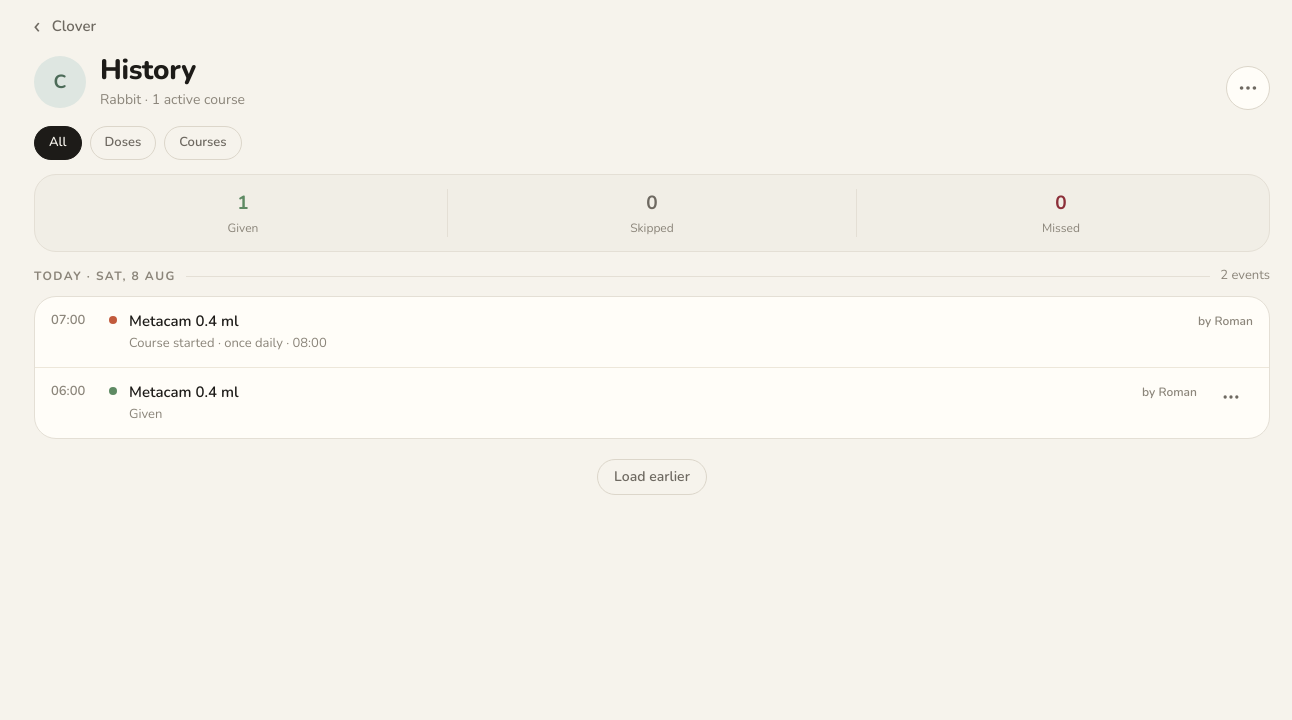
Scenario: HistoryView › exports the visible range as plain text and CSV, matching exportAsText/exportAsCsv over the same entries
Expected: the heading "History" is shown, [100,51,196,89]
Click the button named "Export history". click: (1248, 88)
box: [1226,66,1270,110]
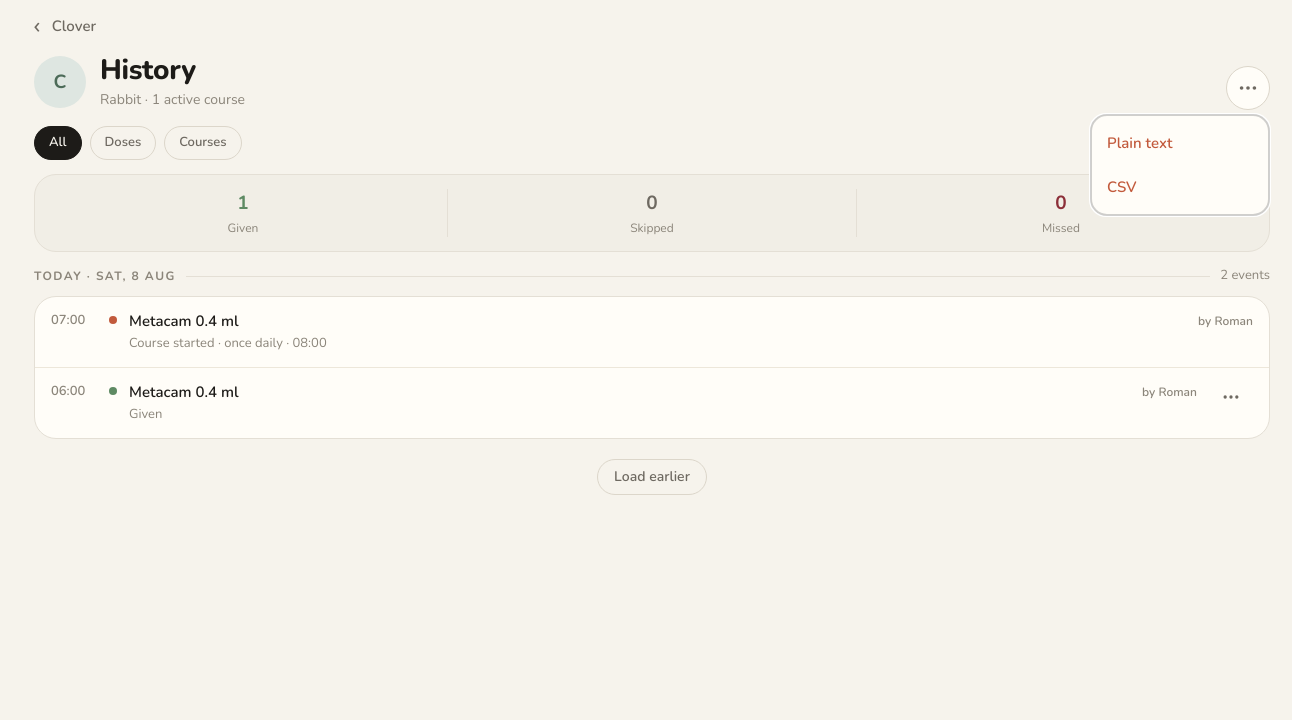
Result: the menu item "Plain text" is shown
Result: the menu item "CSV" is shown at [1107,177,1137,197]
Click the menu item "Plain text". click: (1140, 143)
box: [1107,133,1172,153]
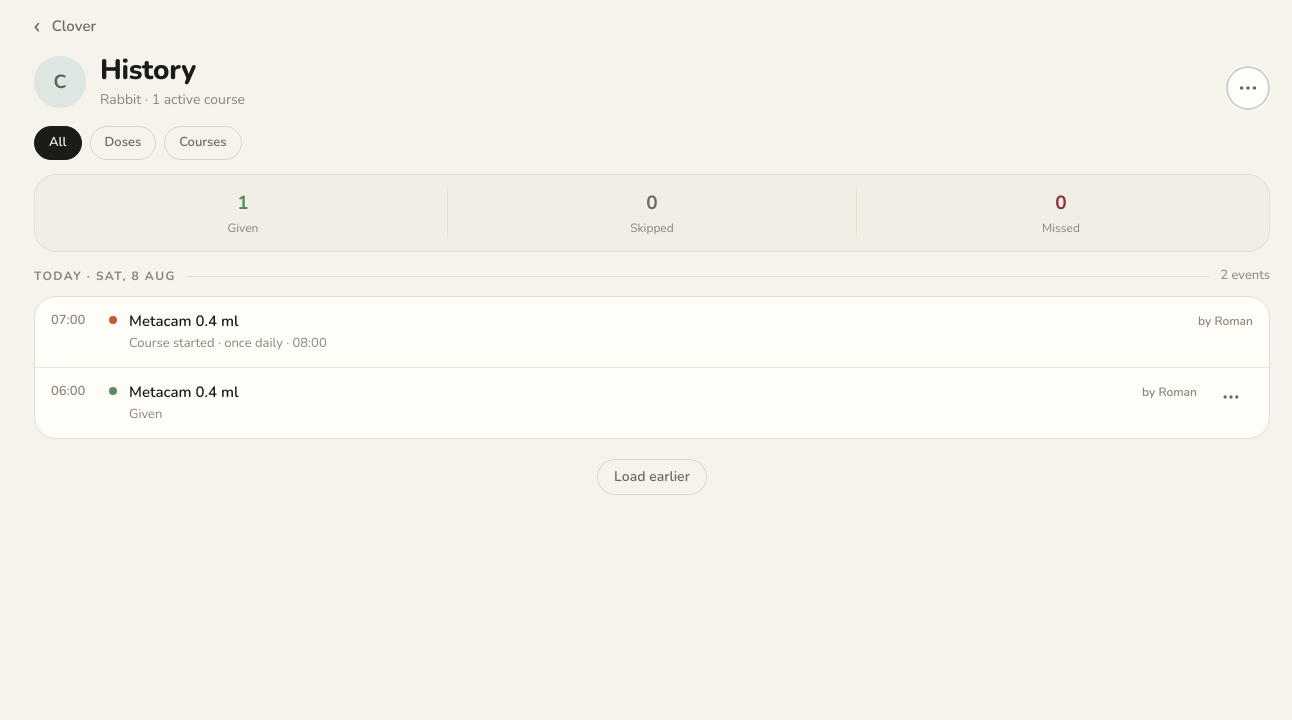
Result: the menu item "Plain text" is gone
Click the button named "Export history". click: (1248, 88)
box: [1226,66,1270,110]
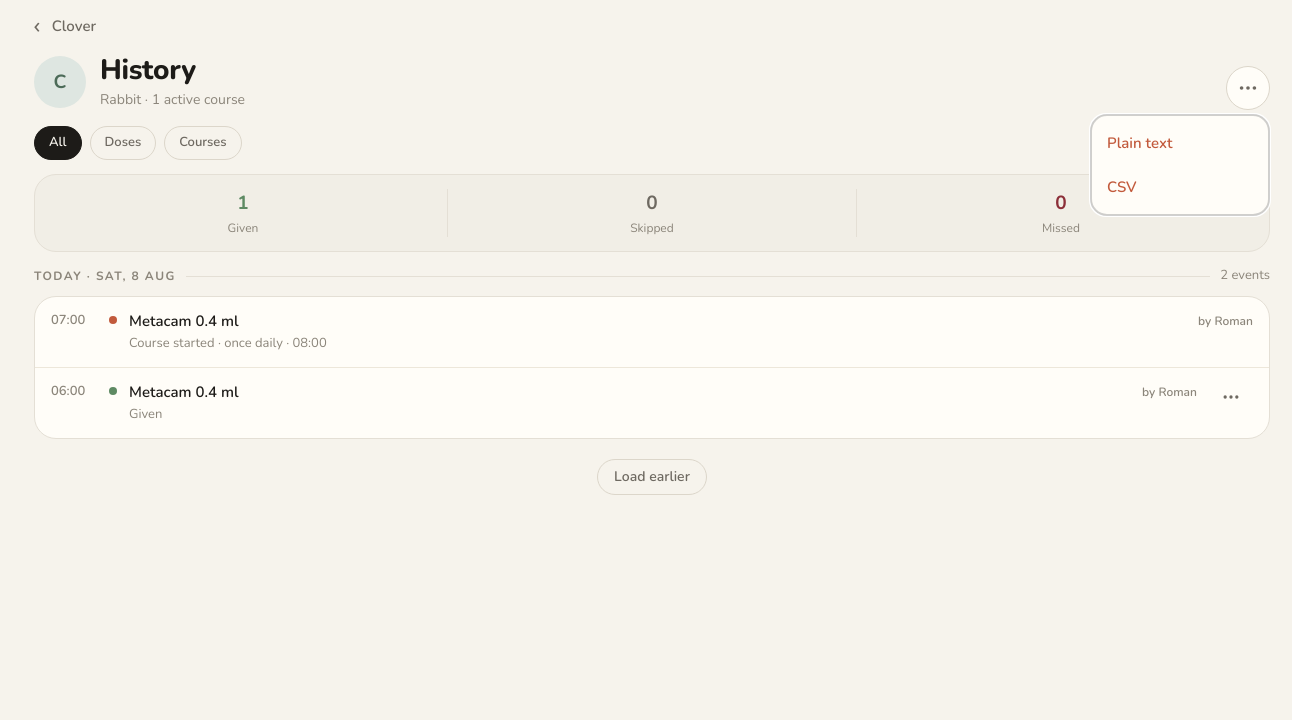
Click the menu item "CSV". click: (1122, 187)
box: [1107,177,1137,197]
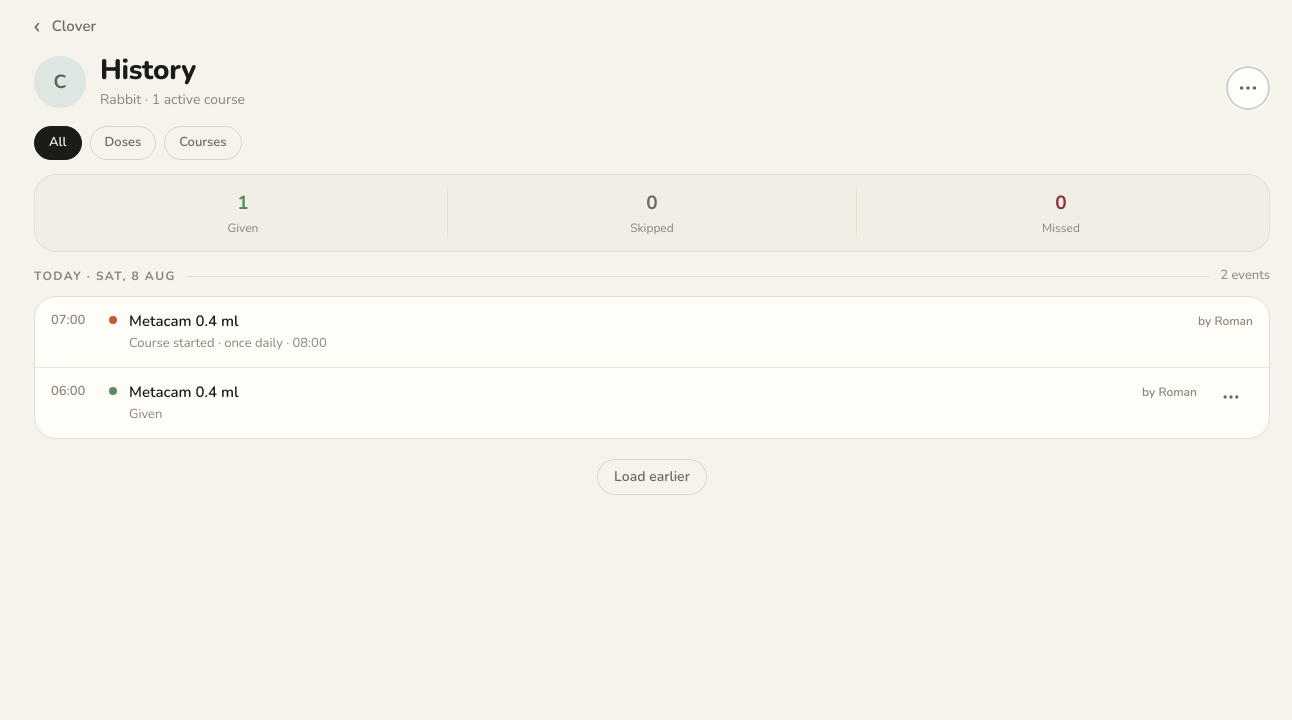
Result: the menu item "CSV" is gone
